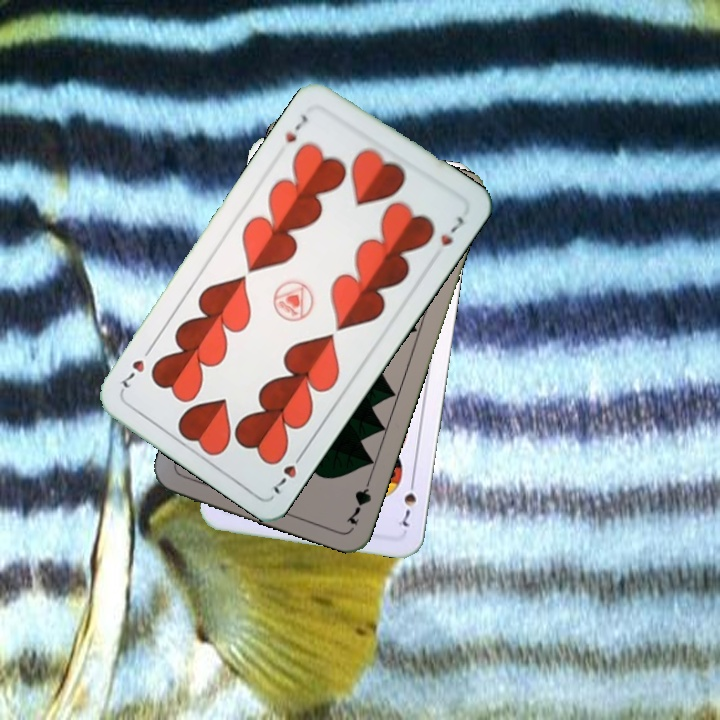G7: (342, 471, 375, 528)
H7: (269, 446, 308, 497), (281, 110, 311, 146)
S7: (394, 474, 419, 529)
